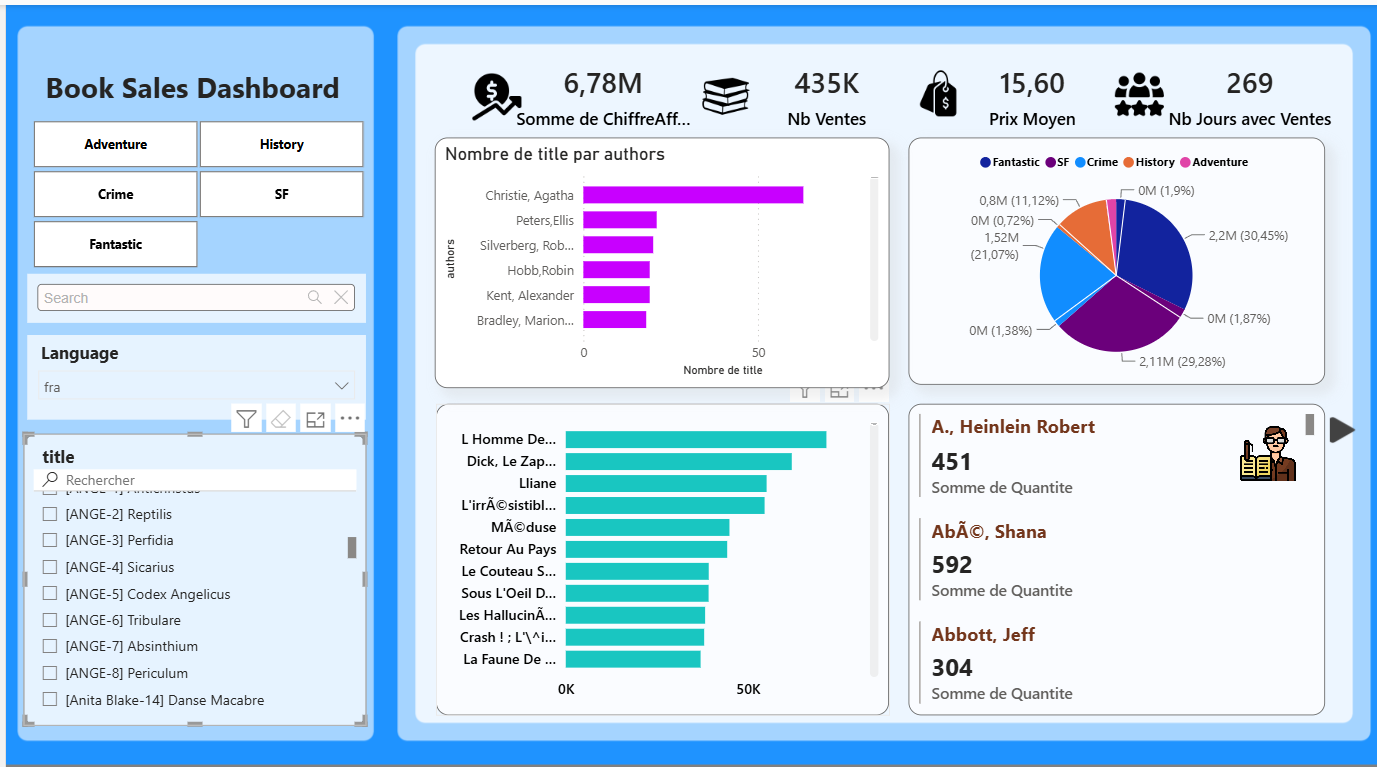

The page's visual inventory and layout, read from the dashboard file:
{"tool":"powerbi","page":{"name":"Books","canvas":[1300,720],"ordinal":0},"visuals":[{"type":"card","fields":{"Values":["Sum(Fact_vente.ChiffreAffaires)"]},"box":[475.5,28.8,177.2,113.6],"z":0},{"type":"card","fields":{"Values":["Fact_vente.Nb Ventes"]},"box":[679.9,28.8,190.8,113.6],"z":1000},{"type":"card","fields":{"Values":["Fact_vente.Prix Moyen"]},"box":[880.6,28.3,177.6,113.4],"z":2000},{"type":"card","fields":{"Values":["Fact_vente.Nb Jours avec Ventes"]},"box":[1086.6,28.3,177.6,113.4],"z":3000},{"type":"image","box":[436.1,57.5,56,56],"z":4000},{"type":"image","box":[652.6,59.1,54.5,54.5],"z":5000},{"type":"image","box":[852.5,56,56,56],"z":6000},{"type":"image","box":[1043.3,59.1,56,56],"z":7000},{"type":"textbox","box":[16.3,53.9,319.7,65.2],"z":8000},{"type":"slicer","fields":{"Values":["dim_livre (2).title"]},"box":[16.2,405.4,324.3,275.7],"z":9000},{"type":"pieChart","fields":{"Category":["dim_livre (2).genre"],"Y":["Fact_vente.Nb Ventes","Sum(Fact_vente.ChiffreAffaires)"]},"box":[852.7,125.7,393.2,233.8],"z":10000},{"type":"multiRowCard","fields":{"Values":["dim_livre (2).authors","Sum(Fact_vente.Quantite)"]},"box":[852.7,377,393.2,294.6],"z":11000},{"type":"image","box":[1159.2,392.1,65.8,63.2],"z":12000},{"type":"image","box":[1246,361.9,33.6,62],"z":13000},{"type":"clusteredBarChart","fields":{"Category":["dim_livre (2).title"],"Y":["Sum(Fact_vente.ChiffreAffaires)"]},"box":[406.8,377,428.4,294.6],"z":14000},{"type":"barChart","fields":{"Category":["dim_livre (2).authors"],"Y":["CountNonNull(dim_livre (2).title)"]},"box":[405.4,125.7,429.7,236.5],"z":15000},{"type":"slicer","fields":{"Values":["dim_livre (2).language"]},"box":[20.4,312.3,319.6,80.3],"z":16000},{"type":"textSearchSlicerF85E2E78BE4A4D7D9F99ED75B5D71C85","fields":{"fields":["Books_Data_Clean.Author"]},"box":[20.4,253.9,319.6,46.7],"z":17000},{"type":"slicer","fields":{"Values":["dim_livre (2).genre"]},"box":[0,102.2,361.9,151.8],"z":18000}]}

Visuals, with their boxes in screenshot pixels (x1, y1, x2, y2), scaled from the page's 1300x720 canvas onto the 1377x767 screenshot:
card - Sum(Fact_vente.ChiffreAffaires): (504,31,691,152)
card - Fact_vente.Nb Ventes: (720,31,922,152)
card - Fact_vente.Prix Moyen: (933,30,1121,151)
card - Fact_vente.Nb Jours avec Ventes: (1151,30,1339,151)
image: (462,61,521,121)
image: (691,63,749,121)
image: (903,60,962,119)
image: (1105,63,1164,123)
textbox: (17,57,356,127)
slicer - dim_livre (2).title: (17,432,361,726)
pieChart - dim_livre (2).genre x Fact_vente.Nb Ventes: (903,134,1320,383)
multiRowCard - dim_livre (2).authors x Sum(Fact_vente.Quantite): (903,402,1320,715)
image: (1228,418,1298,485)
image: (1320,386,1355,452)
clusteredBarChart - dim_livre (2).title x Sum(Fact_vente.ChiffreAffaires): (431,402,885,715)
barChart - dim_livre (2).authors x CountNonNull(dim_livre (2).title): (429,134,885,386)
slicer - dim_livre (2).language: (22,333,360,418)
textSearchSlicerF85E2E78BE4A4D7D9F99ED75B5D71C85 - Books_Data_Clean.Author: (22,270,360,320)
slicer - dim_livre (2).genre: (0,109,383,271)
